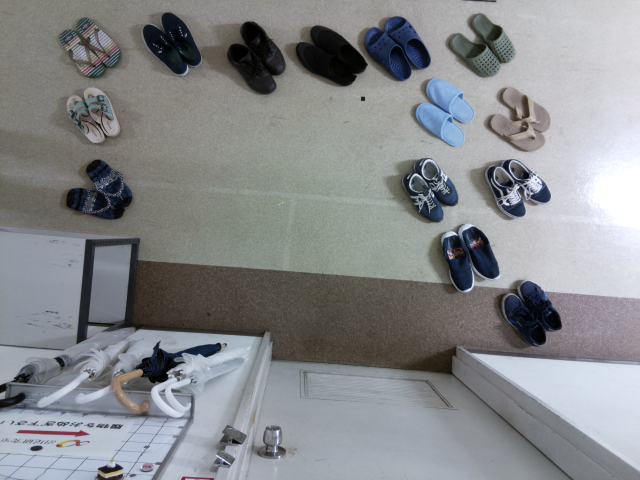Copy of Copy of Copy of Copy of Copy of Copy of Copy of Copy of Copy of Copy of: (293, 36, 357, 86), (310, 21, 368, 75), (382, 14, 435, 72), (226, 40, 279, 98), (235, 20, 288, 77), (362, 24, 414, 81), (140, 21, 192, 78), (469, 8, 519, 65), (158, 9, 205, 69), (62, 184, 127, 225), (83, 159, 135, 210), (410, 99, 465, 147), (423, 75, 475, 125), (74, 15, 122, 69), (58, 25, 106, 79), (63, 89, 107, 147), (447, 32, 502, 77), (81, 85, 122, 141)
Copy of Copy of Copy of Copy of Copy of Copy of Copy of Copy of Copy of shoe: (497, 86, 556, 131)
Copy of Copy of Copy of Copy of Copy of Copy of Copy of Copy of shoe: (484, 113, 546, 153)
Copy of Copy of Copy of Copy of Copy of Copy of Copy of shoe: (501, 156, 553, 207)
Copy of Copy of Copy of Copy of Copy of Copy of shoe: (483, 161, 531, 221)
Copy of Copy of Copy of Copy of Copy of shoe: (412, 156, 461, 208)
Copy of Copy of Copy of Copy of shoe: (399, 172, 448, 224)
Copy of Copy of Copy of shoe: (455, 222, 501, 282)
Copy of Copy of shoe: (436, 227, 481, 294)
Copy of shoe: (513, 276, 565, 335)
shoe: (496, 288, 548, 352)
